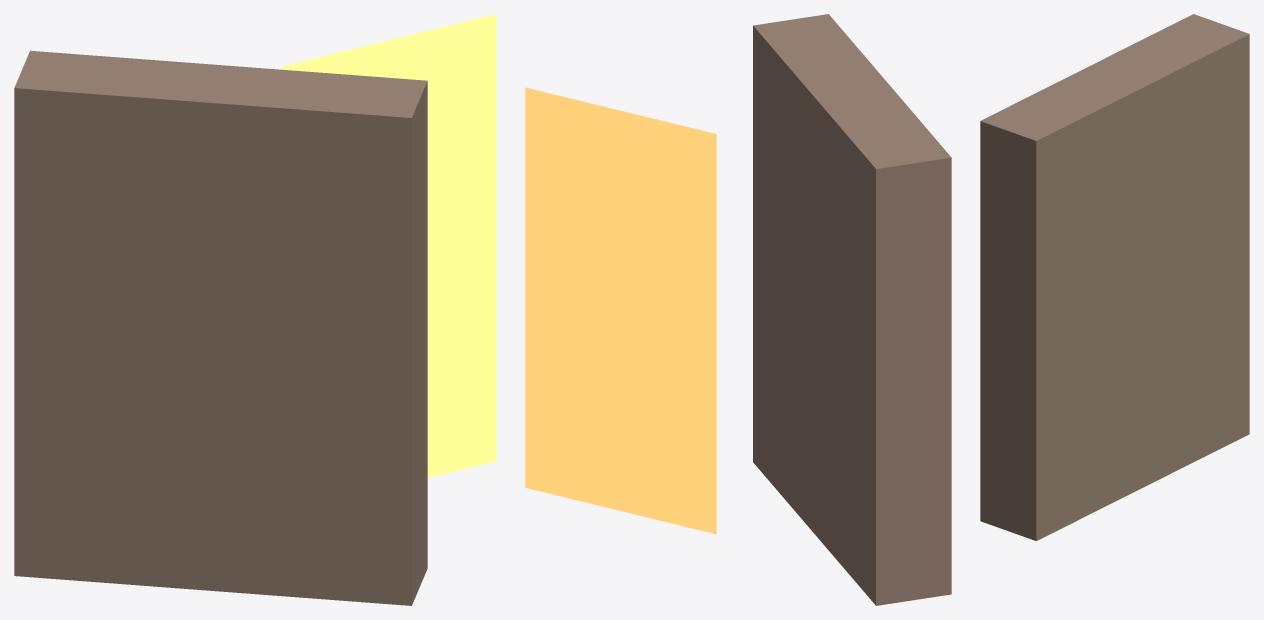
The model's file is bookshelf-ajar.gltf.
3 views of the same model, side by side, from view 1: azimuth 30°, elevation 25°; view 2: azimuth 150°, elevation 25°; view 3: azimuth 270°, elevation 25° (orthographic). The views are drawn at different scales.
Parts seen in each view (by area): view 1: Shelf, Gap; view 2: Shelf, Gap; view 3: Shelf.
Part boxes in pixels (x1,y1,x2,y2): Shelf: (14,50,427,605); Gap: (283,14,496,477); Shelf: (753,14,951,605); Gap: (525,87,716,534); Shelf: (980,14,1249,540).
Bounding box in the file's own units: 2.47 × 2.4 × 1.47.
